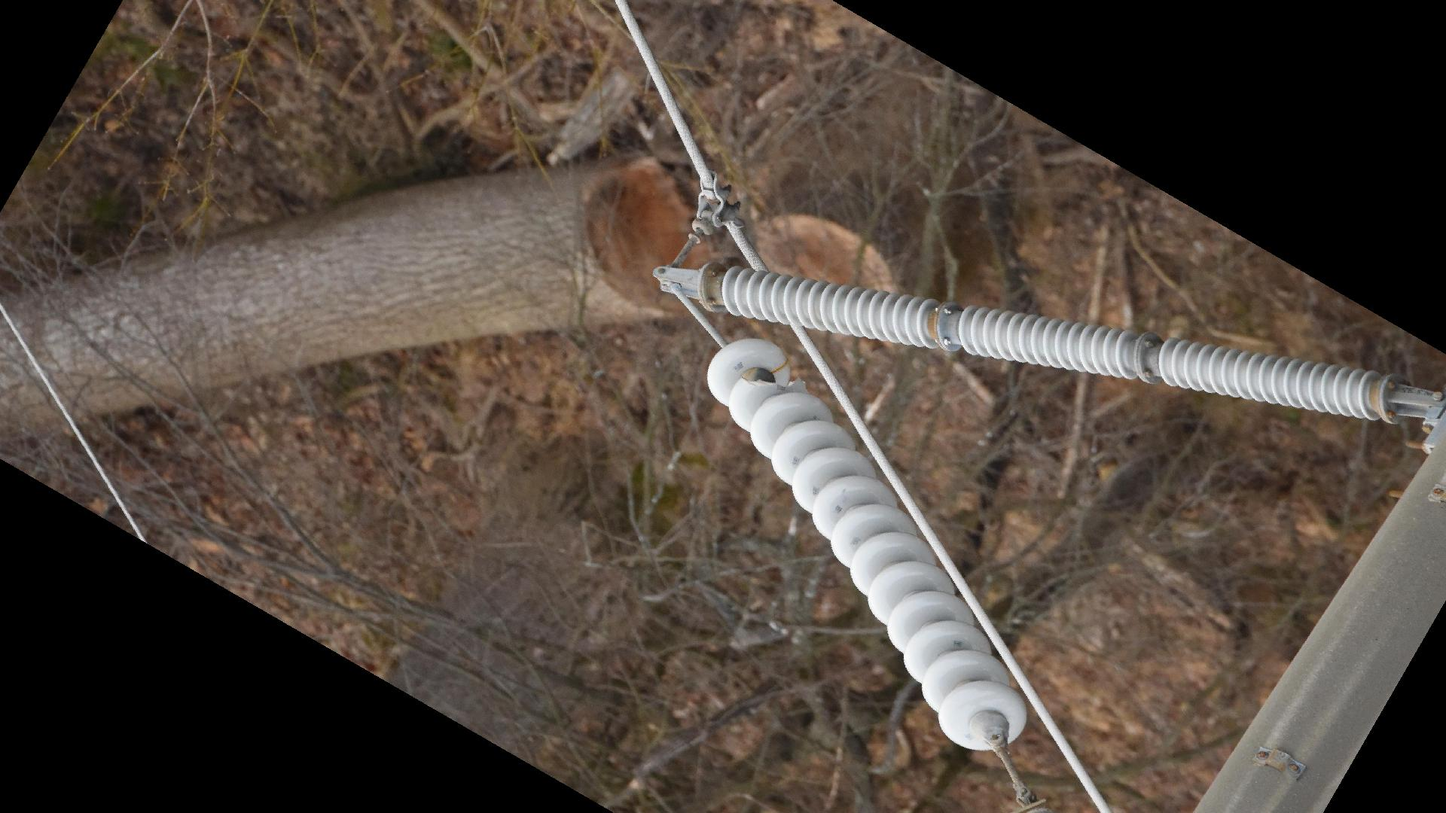insulator: (699, 333, 1033, 757), (1156, 331, 1383, 427), (712, 262, 946, 355), (953, 297, 1150, 388)
insulator_breakage: (734, 370, 811, 399)
